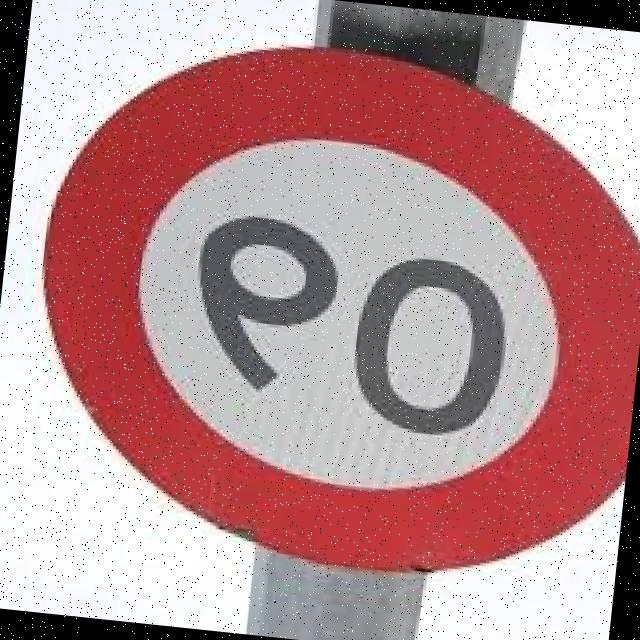speed_limit_60: (11, 28, 640, 597)
